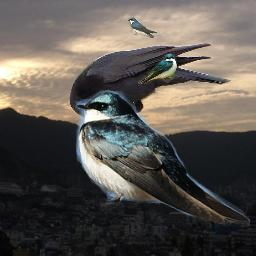Crow: (69, 43, 231, 138)
Swallow: (75, 90, 250, 227), (138, 54, 177, 84), (128, 17, 157, 38)
